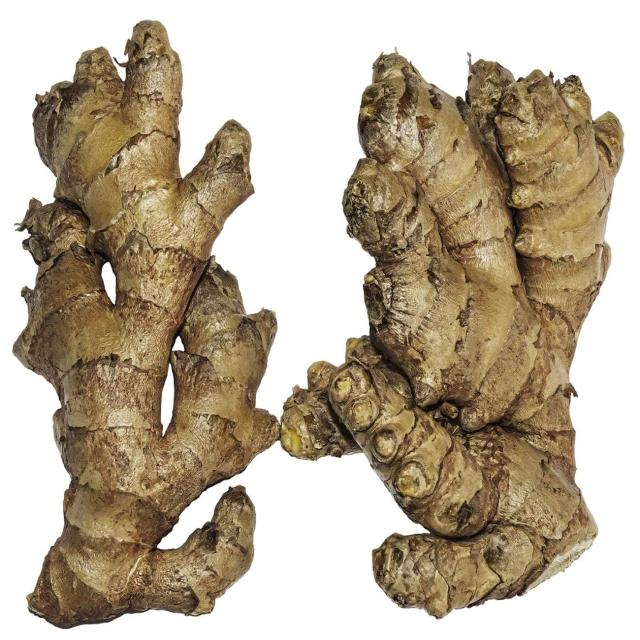ginger-root: (280, 31, 628, 640), (5, 8, 284, 634)
